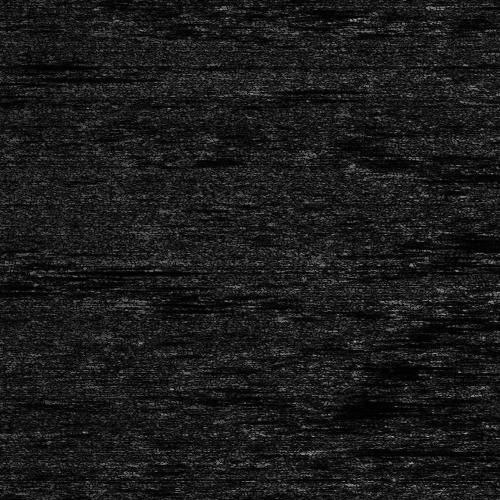rock: (375, 161, 448, 186), (440, 383, 500, 398), (310, 443, 383, 454), (424, 2, 497, 7), (32, 267, 85, 272), (0, 73, 53, 78), (244, 88, 285, 93), (10, 59, 21, 64)
shadow: (412, 161, 500, 186), (347, 443, 500, 454), (22, 73, 170, 78), (59, 267, 202, 272), (16, 59, 80, 64), (265, 88, 315, 93), (461, 2, 500, 7)
